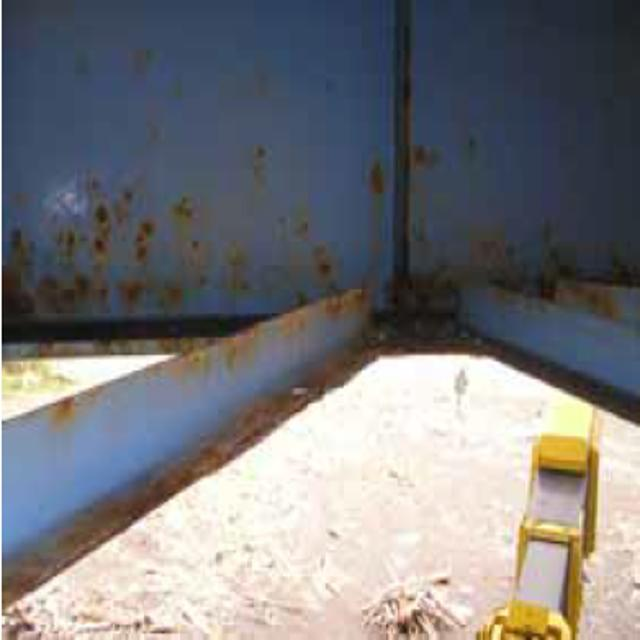corrosion: (32, 187, 544, 376), (20, 397, 299, 600)
